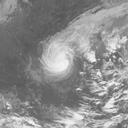cyclone: (38, 39, 75, 81)
